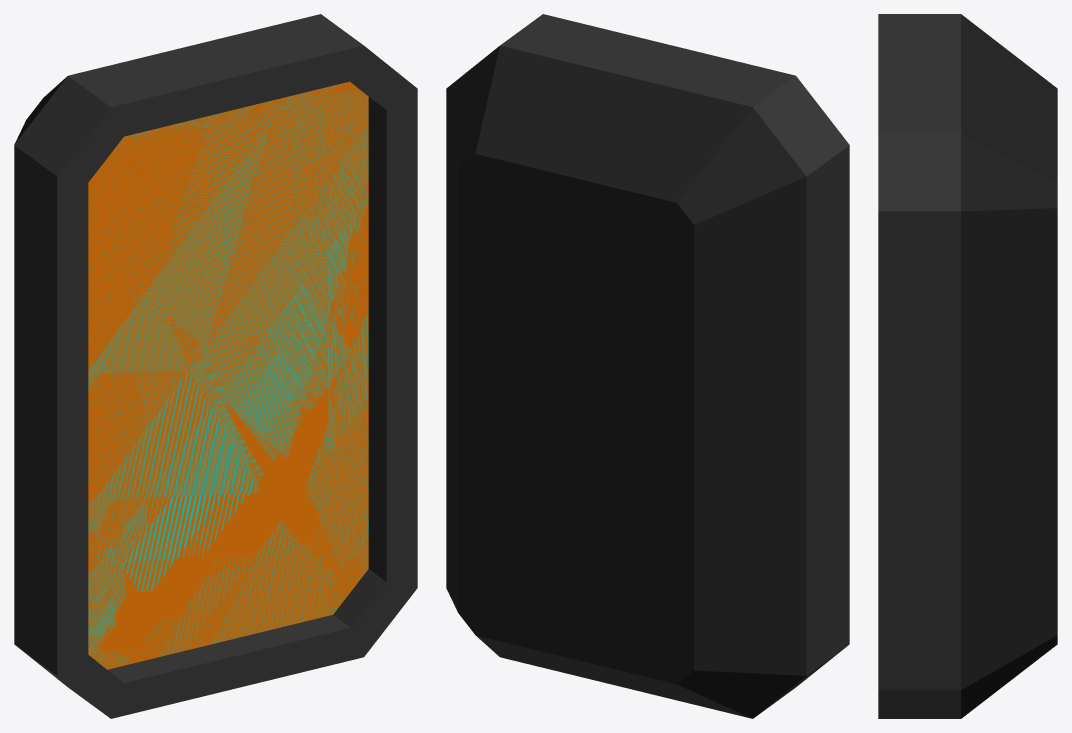
File: Portal.fbx
The picture shows the model from 3 angles, left to right: view 1: azimuth 30°, elevation 25°; view 2: azimuth 150°, elevation 25°; view 3: azimuth 270°, elevation 25°; orthographic projection. The views are drawn at different scales.
Visible parts, largest first — view 1: Portal, Chamber; view 2: Chamber; view 3: Chamber.
Boxes of the visible parts, bbox=[...] form: Portal: bbox=[88, 81, 368, 669]; Chamber: bbox=[14, 14, 417, 718]; Chamber: bbox=[446, 14, 849, 718]; Chamber: bbox=[878, 14, 1057, 718].
Bounding box in the file's own units: 145 × 235 × 65.
Materials: 2 (2 with a texture image).
